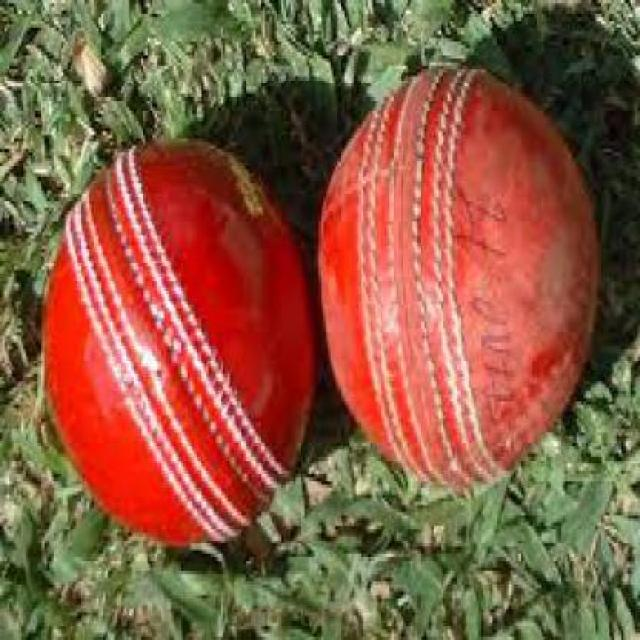ball: (30, 85, 312, 558)
